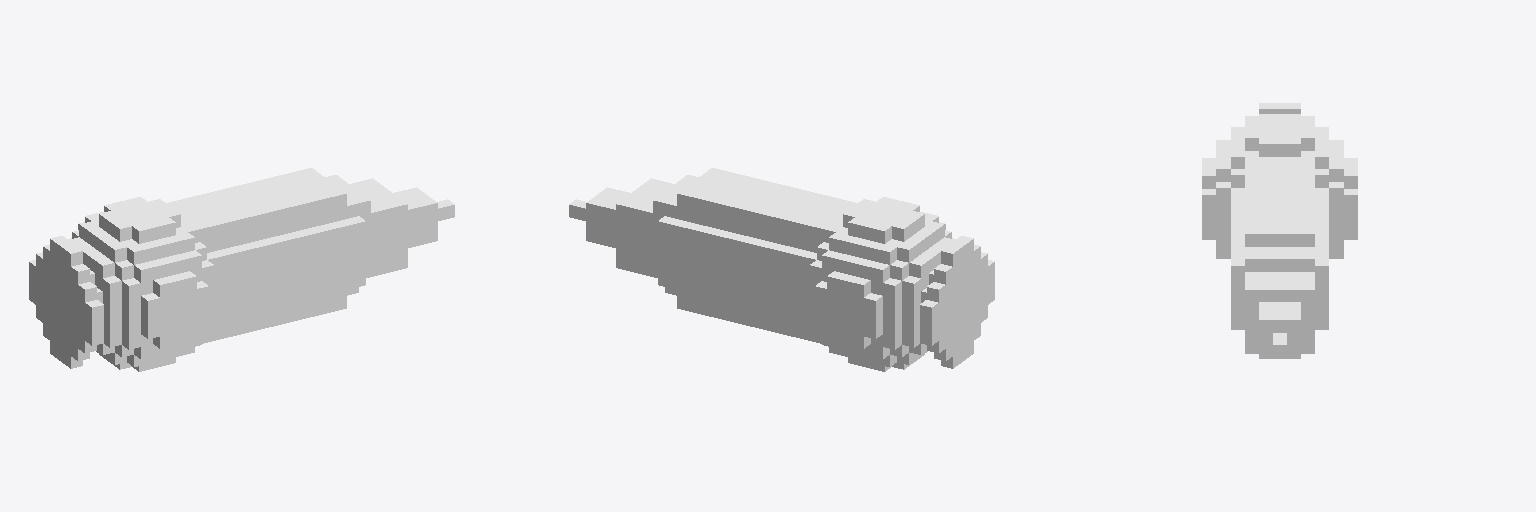
File: dan.obj
The picture shows the model from 3 angles: view 1: azimuth 30°, elevation 25°; view 2: azimuth 150°, elevation 25°; view 3: azimuth 270°, elevation 25°; orthographic projection.
Parts seen in each view (by area): view 1: object 1; view 2: object 1; view 3: object 1.
Boxes of the visible parts, x1,y1,x2,y2 form: object 1: [29, 168, 454, 371]; object 1: [569, 168, 994, 371]; object 1: [1202, 103, 1357, 358].
Size of the model in its own units: 3.2 by 1.1 by 1.1.